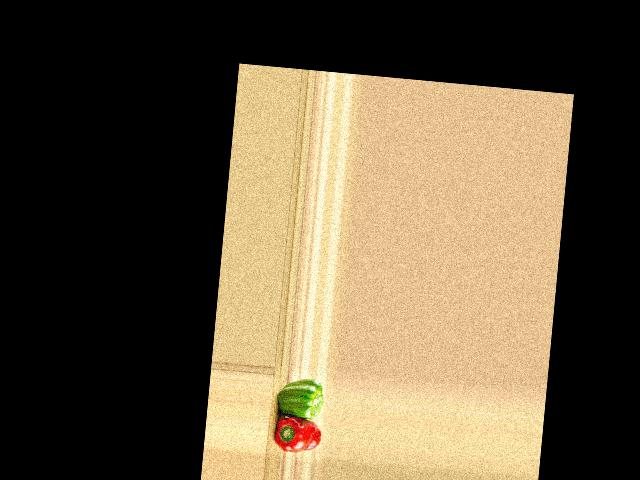bell_pepper: (273, 413, 323, 455)
